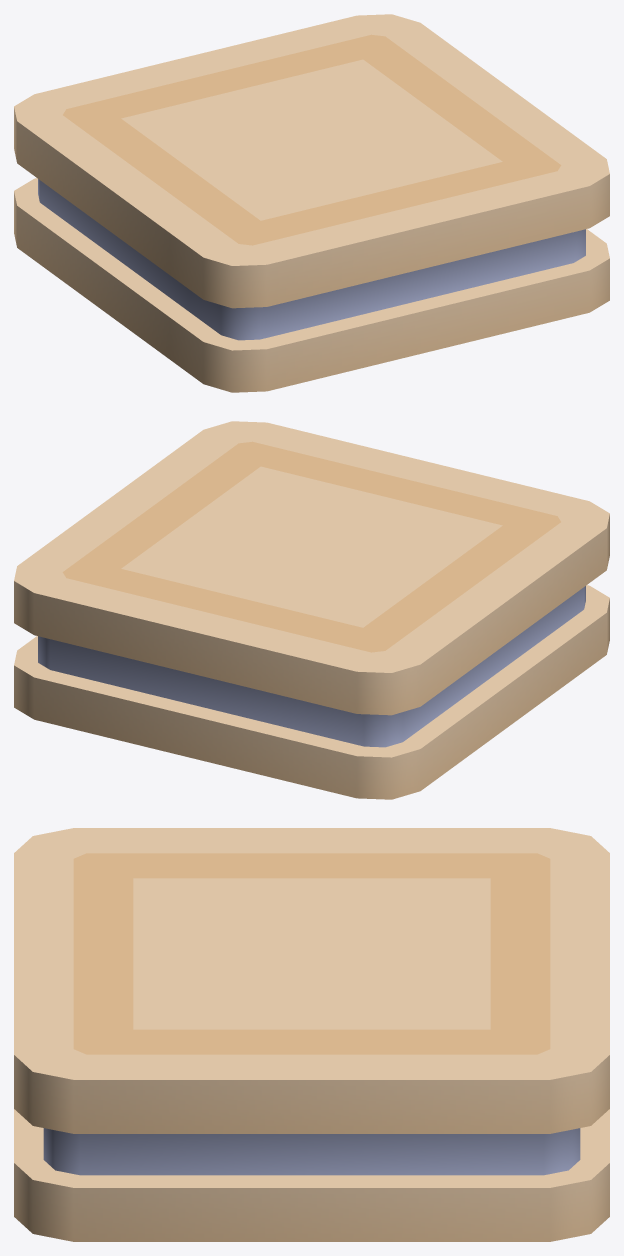
Rendered from block-moving.glb.
3 renders of one model, top to bottom at view 1: azimuth 30°, elevation 25°; view 2: azimuth 150°, elevation 25°; view 3: azimuth 270°, elevation 25°, orthographic. The views are drawn at different scales.
Visible parts, largest first — view 1: block-moving; view 2: block-moving; view 3: block-moving.
Part boxes in pixels (x1,y1,x2,y2): block-moving: [14, 14, 609, 392]; block-moving: [14, 421, 609, 799]; block-moving: [14, 828, 609, 1241].
Bounding box in the file's own units: 1 × 0.3 × 1.
